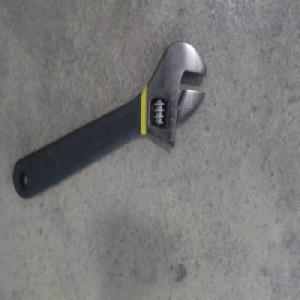AdjustableWrench: (13, 40, 207, 199)
